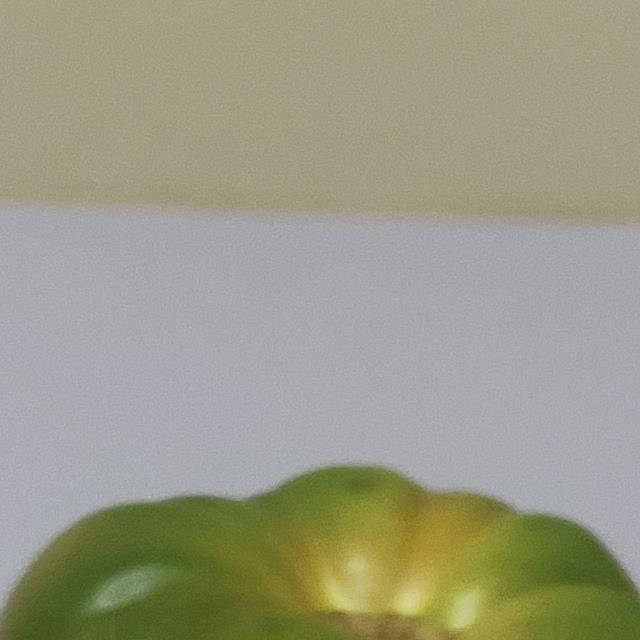tomato: (0, 404, 640, 640)
